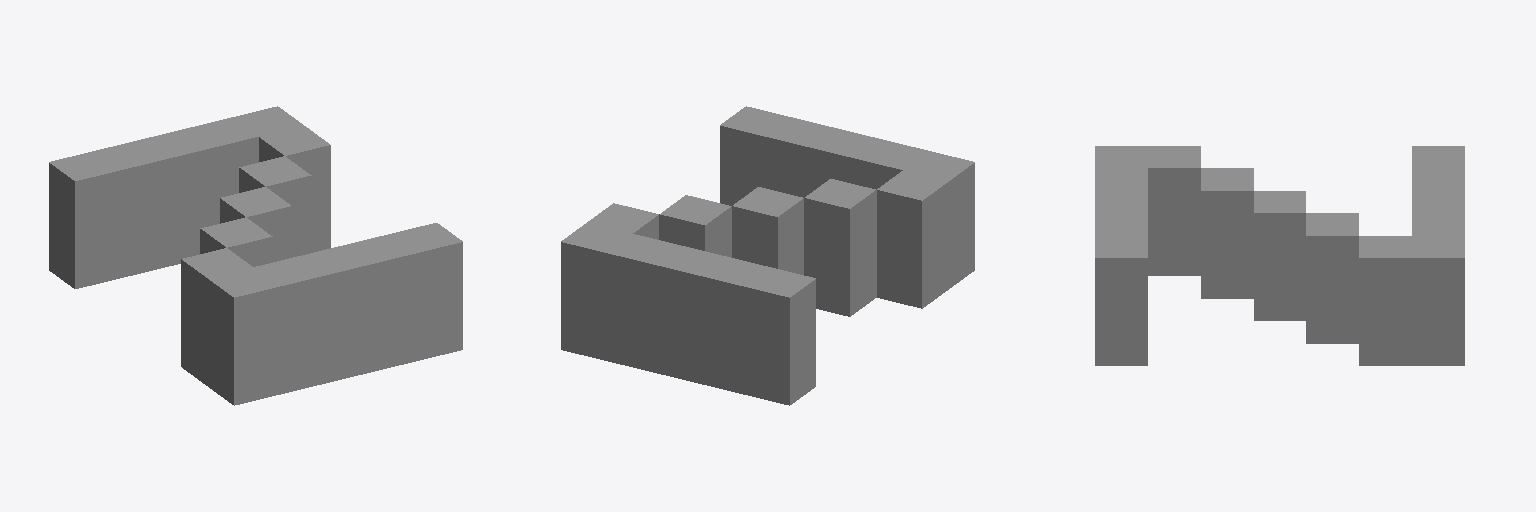
3 views of the same model, side by side, from view 1: azimuth 30°, elevation 25°; view 2: azimuth 150°, elevation 25°; view 3: azimuth 270°, elevation 25° (orthographic).
Parts seen in each view (by area): view 1: Z_CUABC.026; view 2: Z_CUABC.026; view 3: Z_CUABC.026.
Part boxes in pixels (x1,y1,x2,y2): Z_CUABC.026: (49,106,462,405); Z_CUABC.026: (561,106,974,405); Z_CUABC.026: (1095,146,1464,365).
Bounding box in the file's own units: 0.5556 × 0.25 × 0.7778.